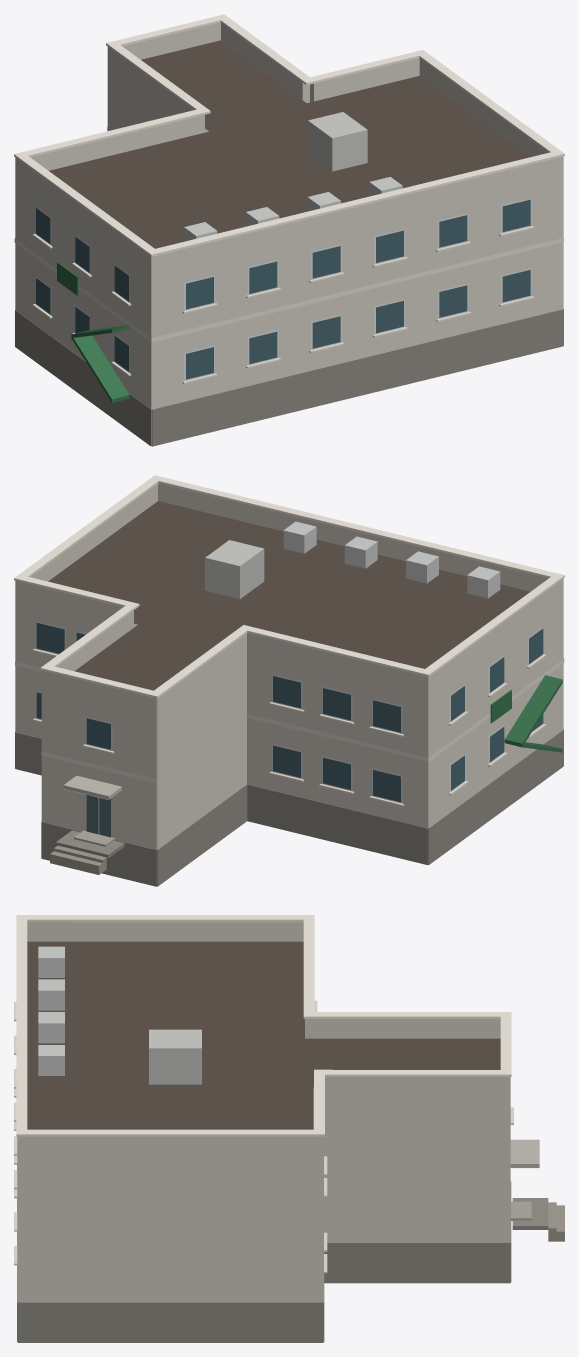
3 views of the same model, one above another, from view 1: azimuth 30°, elevation 25°; view 2: azimuth 150°, elevation 25°; view 3: azimuth 270°, elevation 25° (orthographic). The views are drawn at different scales.
Visible parts, largest first — view 1: w451562738__plaster-wall, w451562738__roof, w451562738__foundation-wall, w451562738__coping-stone, w451562738__glass, w451562738__band-wall, w451562738__frame, w451562738__box-wall, w451562738__rail-green, w451562738__ac; view 2: w451562738__plaster-wall, w451562738__roof, w451562738__foundation-wall, w451562738__coping-stone, w451562738__glass, w451562738__band-wall, w451562738__ac, w451562738__box-wall, w451562738__frame, w451562738__rail-green, w451562738__step-stone, w451562738__door-glass (+1 smaller); view 3: w451562738__plaster-wall, w451562738__roof, w451562738__foundation-wall, w451562738__coping-stone, w451562738__ac, w451562738__box-wall, w451562738__band-wall, w451562738__canopy-slab, w451562738__step-stone.
Part boxes in pixels (x1=…): w451562738__plaster-wall: x1=15, y1=22, x2=563, y2=409; w451562738__roof: x1=49, y1=40, x2=530, y2=248; w451562738__foundation-wall: x1=15, y1=309, x2=563, y2=446; w451562738__coping-stone: x1=14, y1=14, x2=564, y2=256; w451562738__glass: x1=36, y1=199, x2=530, y2=379; w451562738__band-wall: x1=14, y1=126, x2=563, y2=383; w451562738__frame: x1=35, y1=198, x2=531, y2=380; w451562738__box-wall: x1=308, y1=112, x2=367, y2=171; w451562738__rail-green: x1=57, y1=262, x2=129, y2=402; w451562738__ac: x1=184, y1=177, x2=402, y2=241; w451562738__plaster-wall: x1=15, y1=483, x2=563, y2=849; w451562738__roof: x1=48, y1=501, x2=530, y2=690; w451562738__foundation-wall: x1=15, y1=729, x2=563, y2=886; w451562738__coping-stone: x1=14, y1=475, x2=564, y2=698; w451562738__glass: x1=36, y1=623, x2=543, y2=802; w451562738__band-wall: x1=15, y1=648, x2=564, y2=806; w451562738__ac: x1=283, y1=521, x2=500, y2=598; w451562738__box-wall: x1=205, y1=540, x2=264, y2=598; w451562738__frame: x1=35, y1=621, x2=543, y2=834; w451562738__rail-green: x1=490, y1=675, x2=562, y2=752; w451562738__step-stone: x1=50, y1=845, x2=106, y2=874; w451562738__door-glass: x1=86, y1=795, x2=110, y2=837; w451562738__plaster-wall: x1=17, y1=922, x2=510, y2=1302; w451562738__roof: x1=27, y1=941, x2=500, y2=1129; w451562738__foundation-wall: x1=17, y1=1165, x2=548, y2=1342; w451562738__coping-stone: x1=16, y1=915, x2=511, y2=1136; w451562738__ac: x1=38, y1=946, x2=64, y2=1075; w451562738__box-wall: x1=149, y1=1029, x2=201, y2=1084; w451562738__band-wall: x1=14, y1=1000, x2=513, y2=1273; w451562738__canopy-slab: x1=510, y1=1139, x2=539, y2=1167; w451562738__step-stone: x1=548, y1=1202, x2=564, y2=1241.
Size of the model in its own units: 24.5 by 11.1 by 24.91.
